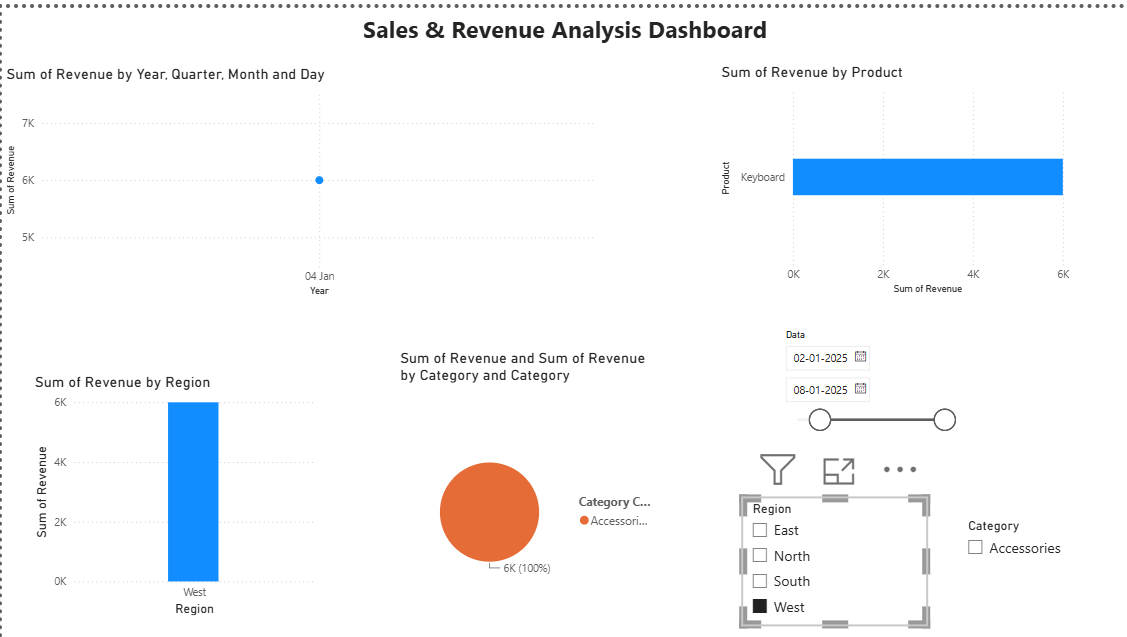

What the dashboard file says about the page in this screenshot:
{"tool":"powerbi","page":{"name":"Page 1","canvas":[1280,720],"ordinal":0},"visuals":[{"type":"pieChart","fields":{"Category":["Sheet1.Category","Sheet1.Category"],"Y":["Sum(Sheet1.Revenue)","Sum(Sheet1.Revenue)"]},"box":[447.5,387.5,300,332.5],"z":2000},{"type":"slicer","fields":{"Values":["Sheet1.Region"]},"box":[840,555,212.5,147.5],"z":3000},{"type":"slicer","fields":{"Values":["Sheet1.Category"]},"box":[1085,575,195,145],"z":4000},{"type":"slicer","fields":{"Values":["Sheet1.Data"]},"box":[877.5,360,215,137.5],"z":5000},{"type":"textbox","box":[195,0,890,62.5],"z":6000},{"type":"lineChart","fields":{"Y":["Sum(Sheet1.Revenue)"],"Category":["Sheet1.Data.Variation.Date Hierarchy.Year","Sheet1.Data.Variation.Date Hierarchy.Quarter","Sheet1.Data.Variation.Date Hierarchy.Month","Sheet1.Data.Variation.Date Hierarchy.Day"]},"box":[0,65,680,267.5],"z":7000},{"type":"clusteredColumnChart","fields":{"Category":["Sheet1.Region"],"Y":["Sum(Sheet1.Revenue)"]},"box":[32.5,415,327.5,280],"z":7001},{"type":"clusteredBarChart","fields":{"Category":["Sheet1.Product"],"Y":["Sum(Sheet1.Revenue)"]},"box":[812.5,62.5,405,267.5],"z":7002}]}

Visuals, with their boxes in screenshot pixels (x1, y1, x2, y2), scaled from the page's 1280x720 canvas onto the 1127x637 screenshot:
pieChart - Sheet1.Category x Sheet1.Category: <box>394,343,658,636</box>
slicer - Sheet1.Region: <box>740,491,927,622</box>
slicer - Sheet1.Category: <box>955,509,1126,636</box>
slicer - Sheet1.Data: <box>773,318,962,440</box>
textbox: <box>172,0,955,55</box>
lineChart - Sum(Sheet1.Revenue) x Sheet1.Data.Variation.Date Hierarchy.Year: <box>0,58,599,294</box>
clusteredColumnChart - Sheet1.Region x Sum(Sheet1.Revenue): <box>29,367,317,615</box>
clusteredBarChart - Sheet1.Product x Sum(Sheet1.Revenue): <box>715,55,1072,292</box>
